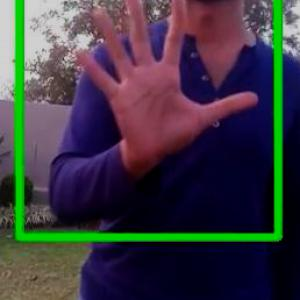follow_hand: (67, 0, 264, 167)
